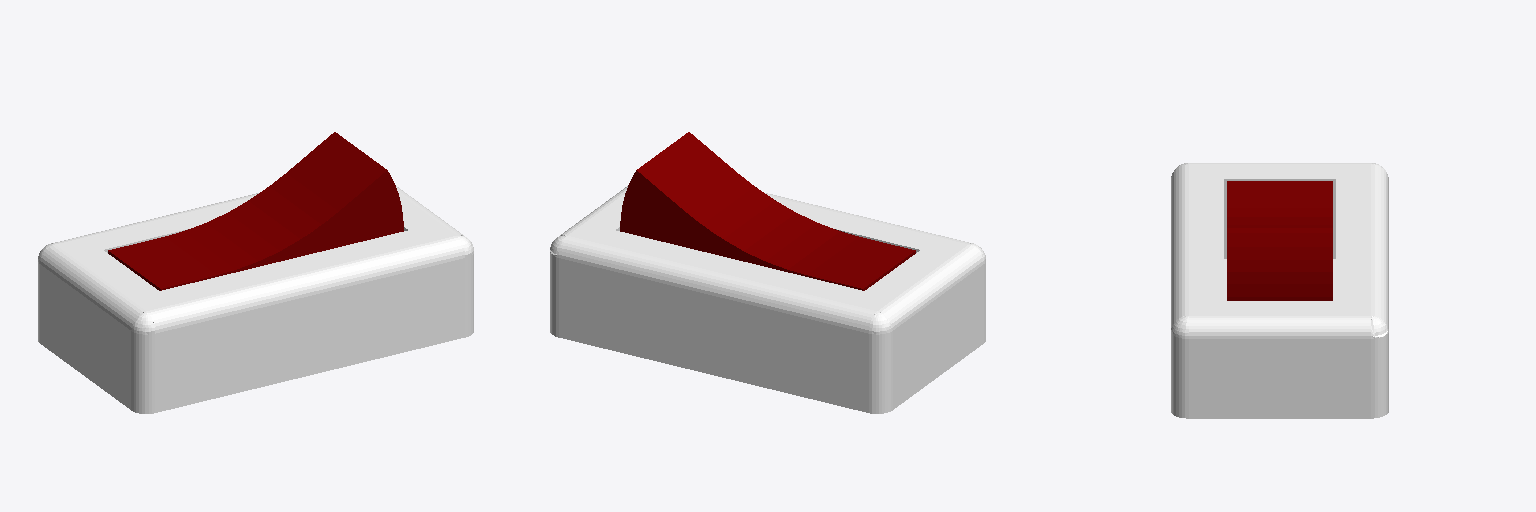
File: offButton.obj
3 renders of one model, left to right at view 1: azimuth 30°, elevation 25°; view 2: azimuth 150°, elevation 25°; view 3: azimuth 270°, elevation 25°, orthographic.
Visible parts, largest first — view 1: 003, _DC_Brep; view 2: 003, _DC_Brep; view 3: 003, _DC_Brep.
Boxes of the visible parts, x1=… form: 003: x1=38, y1=186, x2=473, y2=413; _DC_Brep: x1=108, y1=132, x2=403, y2=290; 003: x1=550, y1=186, x2=985, y2=413; _DC_Brep: x1=620, y1=132, x2=915, y2=290; 003: x1=1171, y1=163, x2=1388, y2=418; _DC_Brep: x1=1227, y1=181, x2=1332, y2=300.
Size of the model in its own units: 11.2 by 5 by 6.2.